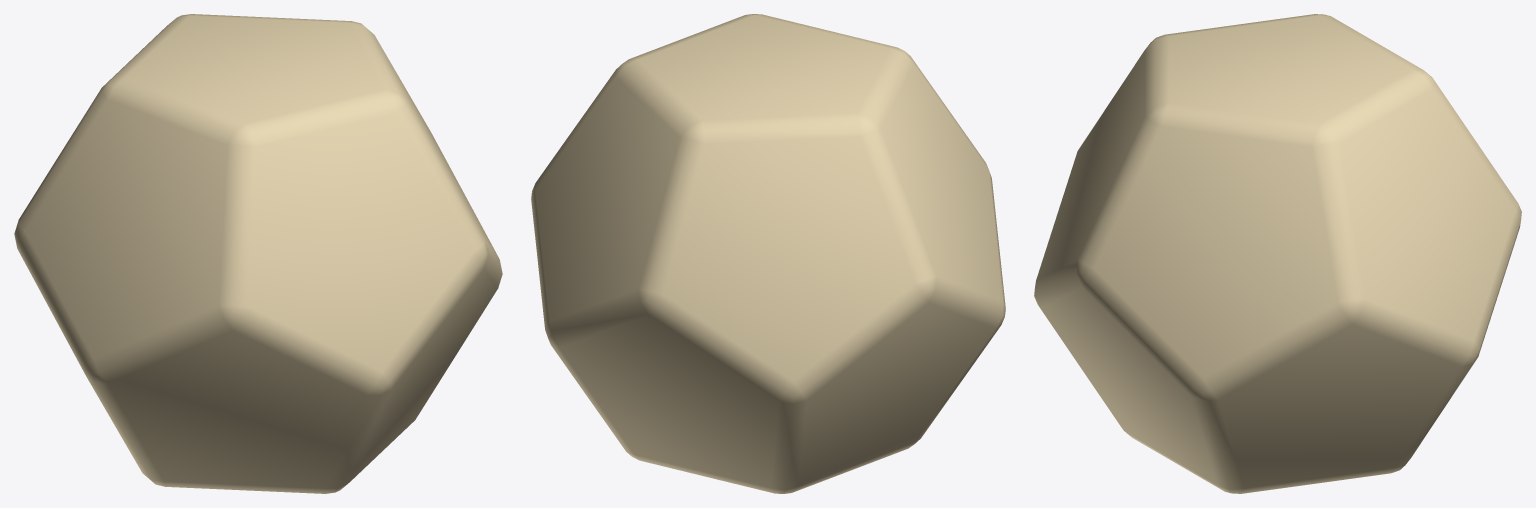
Rendered from midnight_d12.glb.
The picture shows the model from 3 angles, left to right: view 1: azimuth 30°, elevation 25°; view 2: azimuth 150°, elevation 25°; view 3: azimuth 270°, elevation 25°; orthographic projection. The views are drawn at different scales.
Visible parts, largest first — view 1: MidnightD12; view 2: MidnightD12; view 3: MidnightD12.
Boxes of the visible parts, x1,y1,x2,y2 form: MidnightD12: [14, 14, 502, 493]; MidnightD12: [531, 14, 1005, 493]; MidnightD12: [1034, 14, 1521, 493].
Size of the model in its own units: 0.0833 by 0.0724 by 0.0869.
